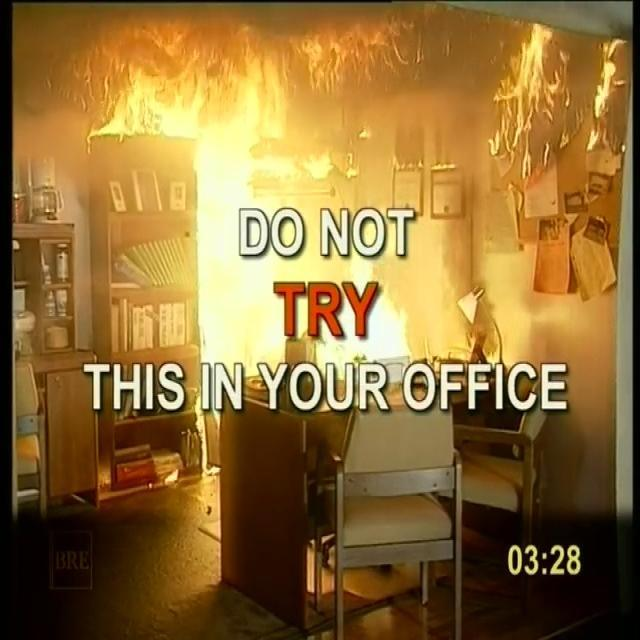Fire: (14, 12, 636, 346)
